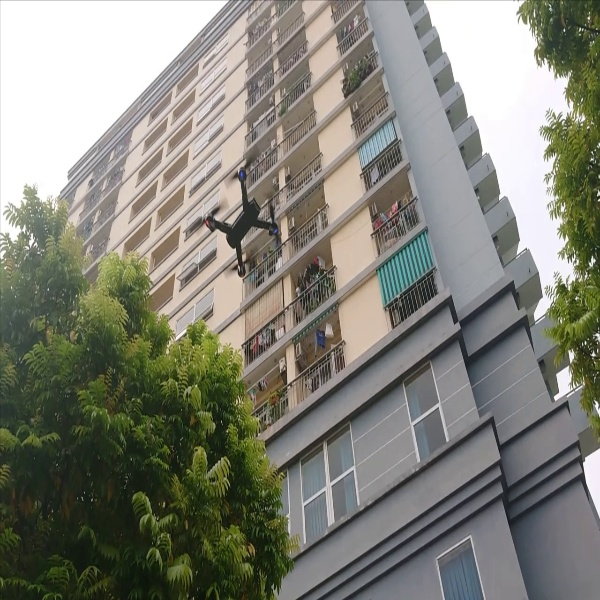drone: (192, 161, 283, 276)
